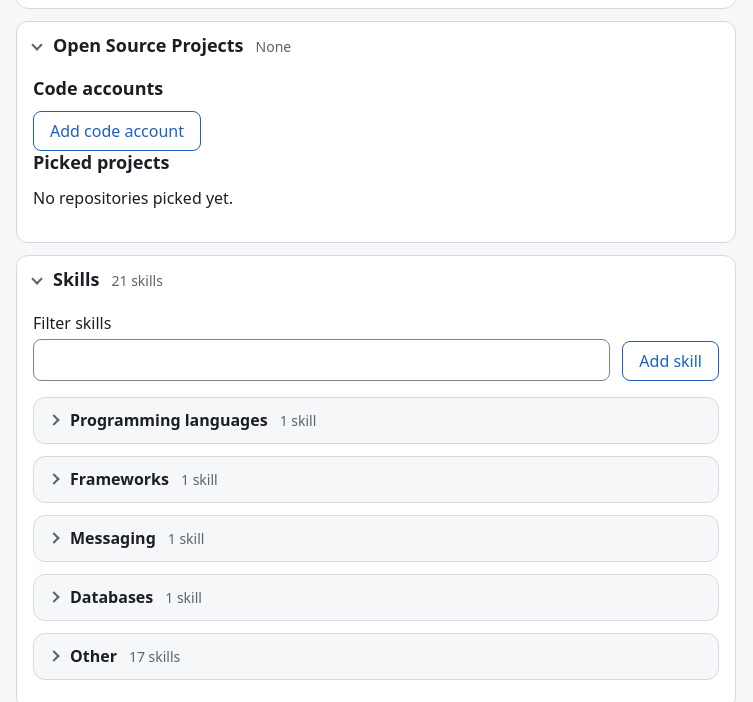
Test case: grouped skills › shows an added skill even when the groups are closed or a filter is set
(page scrolled)
Type "kot" into the search field labelled "Filter skills" at {"x": 322, "y": 360}, box 33,338 -> 610,380
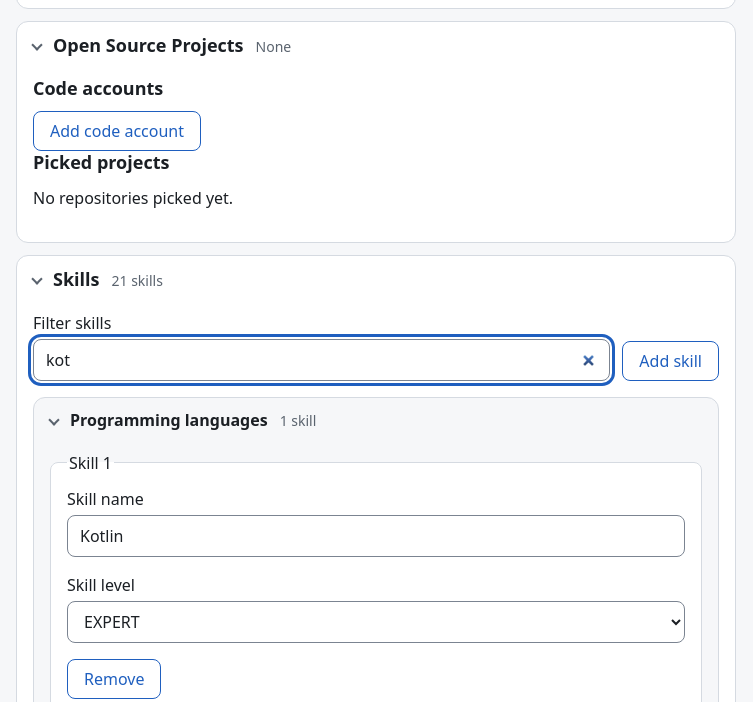
Click the button "Add skill" at {"x": 671, "y": 360}, box 622,340 -> 719,380
(page scrolled)
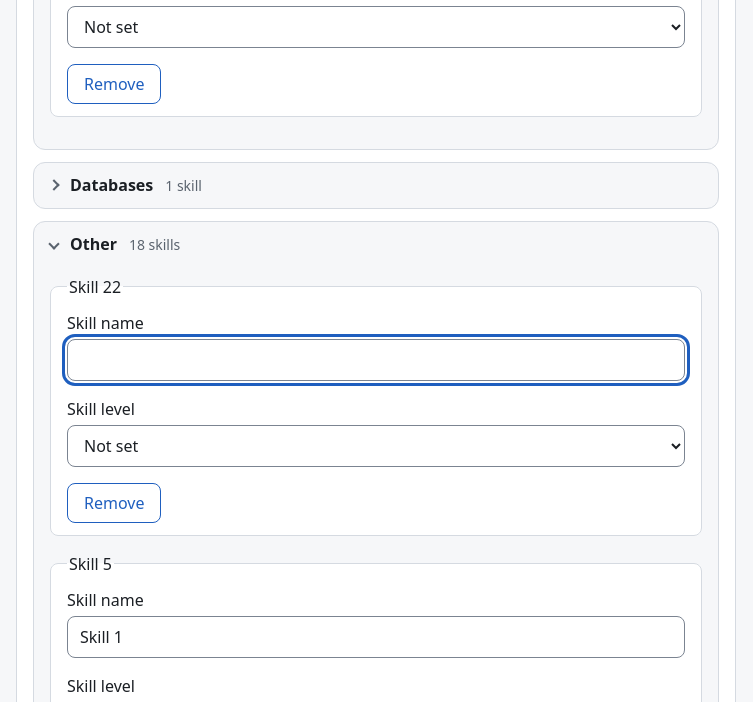
Expected: the field with class "name" is shown, 67,338 -> 685,380
